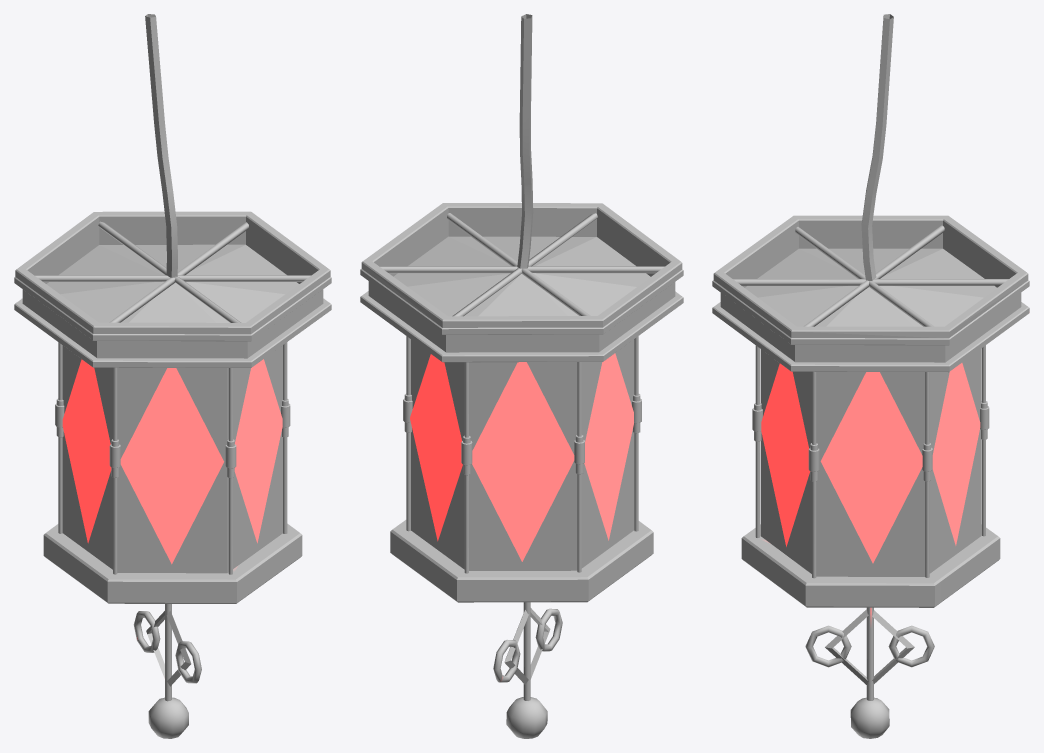
Rendered from SM_LightSet_Baloon2.fbx.
3 views of the same model, side by side, from view 1: azimuth 30°, elevation 25°; view 2: azimuth 150°, elevation 25°; view 3: azimuth 270°, elevation 25° (orthographic).
Visible parts, largest first — view 1: SM_LightSet_Baloon2_LOD0; view 2: SM_LightSet_Baloon2_LOD0; view 3: SM_LightSet_Baloon2_LOD0.
Boxes of the visible parts, bbox=[...] form: SM_LightSet_Baloon2_LOD0: bbox=[14, 14, 331, 738]; SM_LightSet_Baloon2_LOD0: bbox=[360, 14, 683, 738]; SM_LightSet_Baloon2_LOD0: bbox=[712, 14, 1029, 738].
Bounding box in the file's own units: 63.55 × 73.17 × 182.
